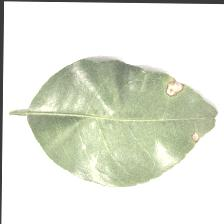canker: (158, 67, 202, 151)
